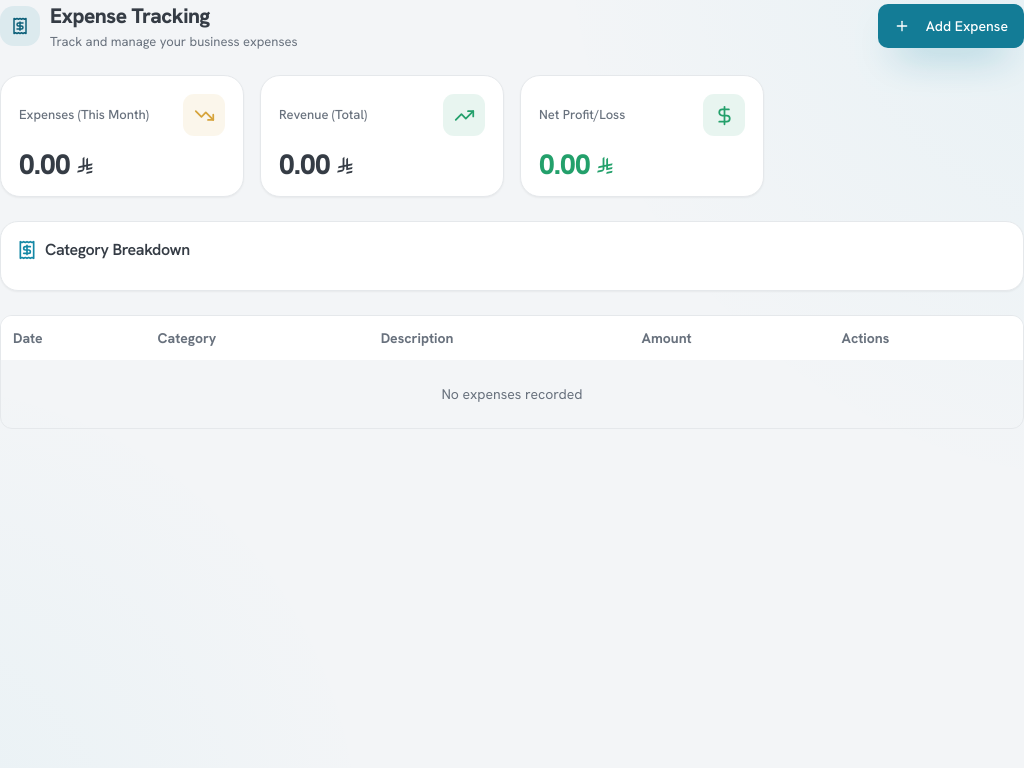
Scenario: ExpenseTracking form input labelling a11y (ISSUE-226) › names each expense-form control from its visible caption
The image size is (1024, 768).
Click the button "Add Expense".
click(951, 26)  # box [878,4,1023,48]
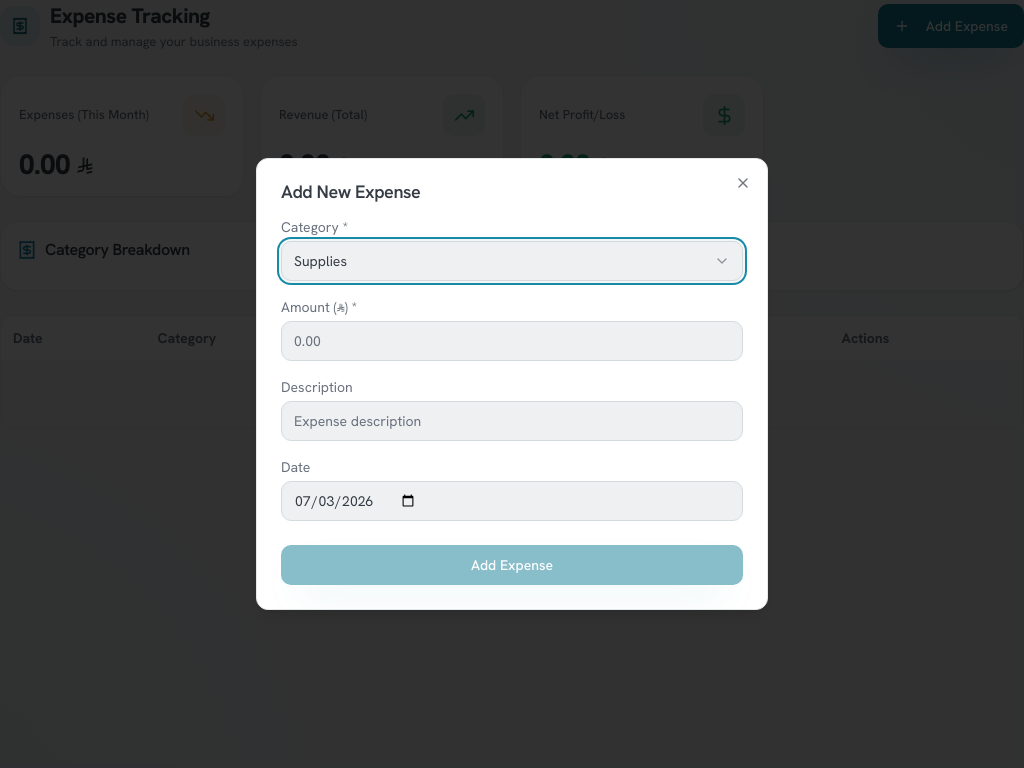
expect the dropdown named "Category" is shown: met, box [281,241,743,281]
expect the number field labelled "Amount (⃁) *" is shown: met, box [281,321,743,361]
expect the field labelled "Description" is shown: met, box [281,401,743,441]
